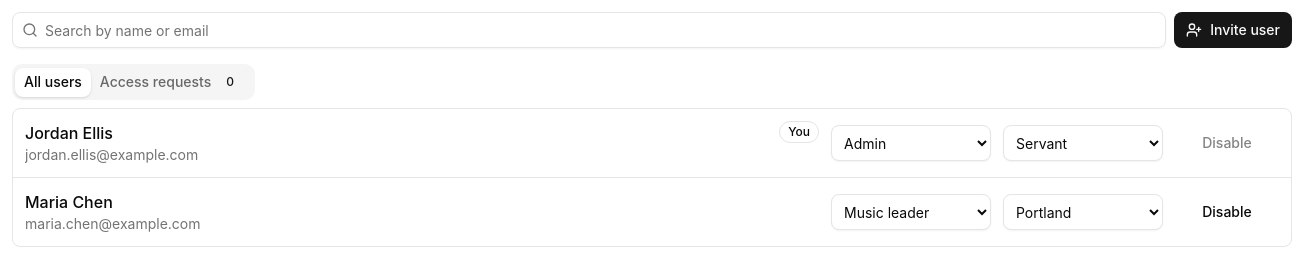
Test: UsersAdmin › searches by name or email, with an empty state
Type "maria" into the search field named "search users".
click(589, 30); type("maria")  # box [12,12,1166,48]
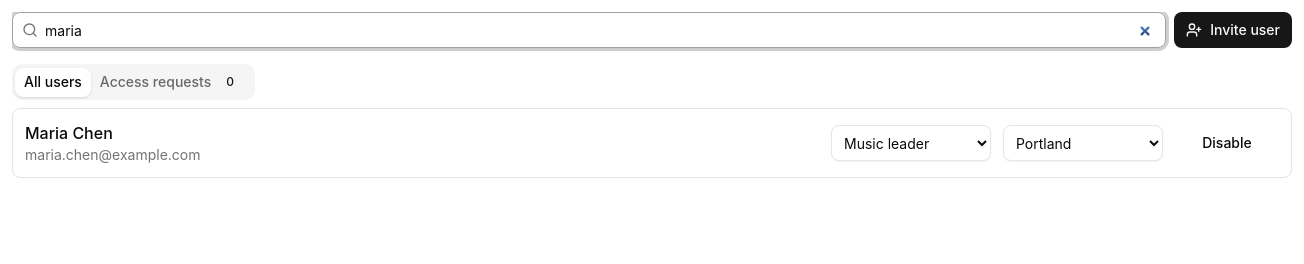
Expected: the text "Maria Chen" is shown, [25,123,113,143]
Expected: the text "Jordan Ellis" is gone
Replace the text in the search field named "search users" with "nobody" at (589, 30), box [12,12,1166,48]
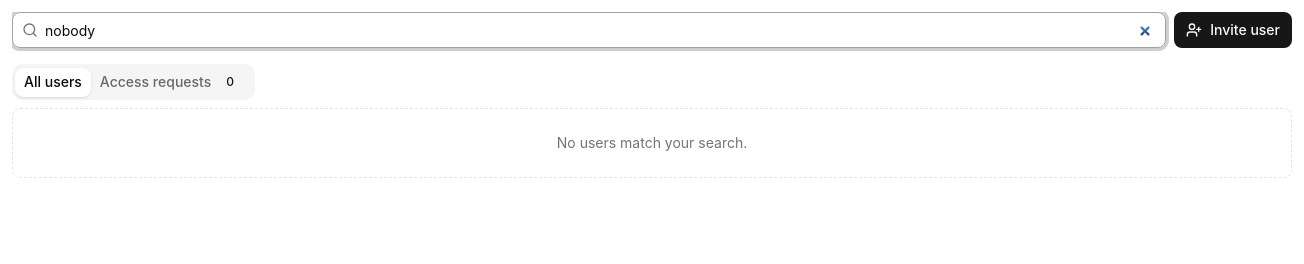
Expected: the text "No users match your search." is shown, [12,108,1292,178]
